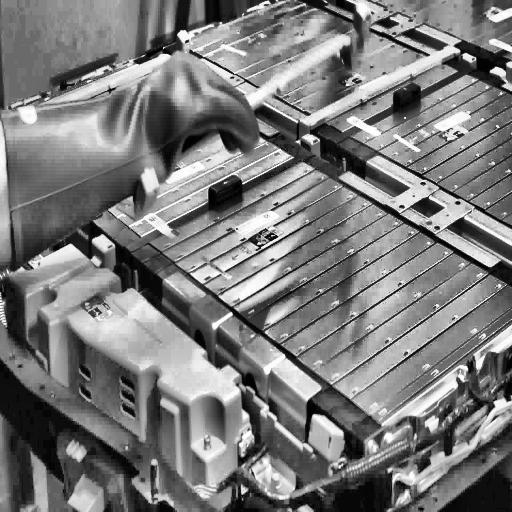battery_module: (149, 161, 512, 424), (181, 0, 457, 130), (352, 71, 512, 226)
busbar: (128, 2, 377, 225), (291, 37, 477, 161), (214, 351, 349, 484), (5, 28, 193, 110)
high_volt_cable: (391, 394, 512, 492)
low_volt_cable: (213, 360, 512, 510)
